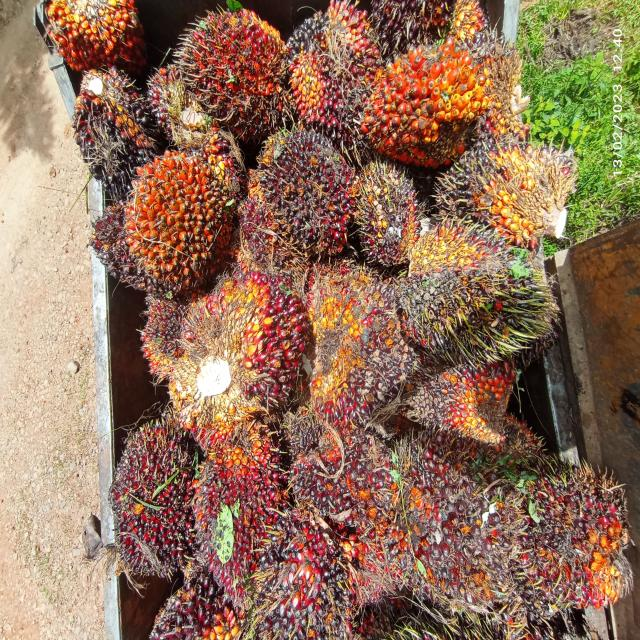fraksi 00: (396, 189, 556, 412), (428, 97, 574, 259), (66, 55, 156, 199), (342, 148, 429, 285)
fraksi 1: (362, 437, 516, 633), (399, 329, 543, 490), (510, 448, 636, 628), (98, 400, 212, 592), (300, 250, 415, 432), (288, 390, 401, 535), (260, 115, 362, 255), (251, 504, 348, 640), (138, 291, 190, 393)
fraksi 3: (172, 229, 310, 460), (190, 413, 286, 599), (279, 0, 381, 154)
fraksi 4: (358, 15, 499, 182), (115, 124, 240, 312), (172, 0, 294, 159), (42, 0, 159, 107)
